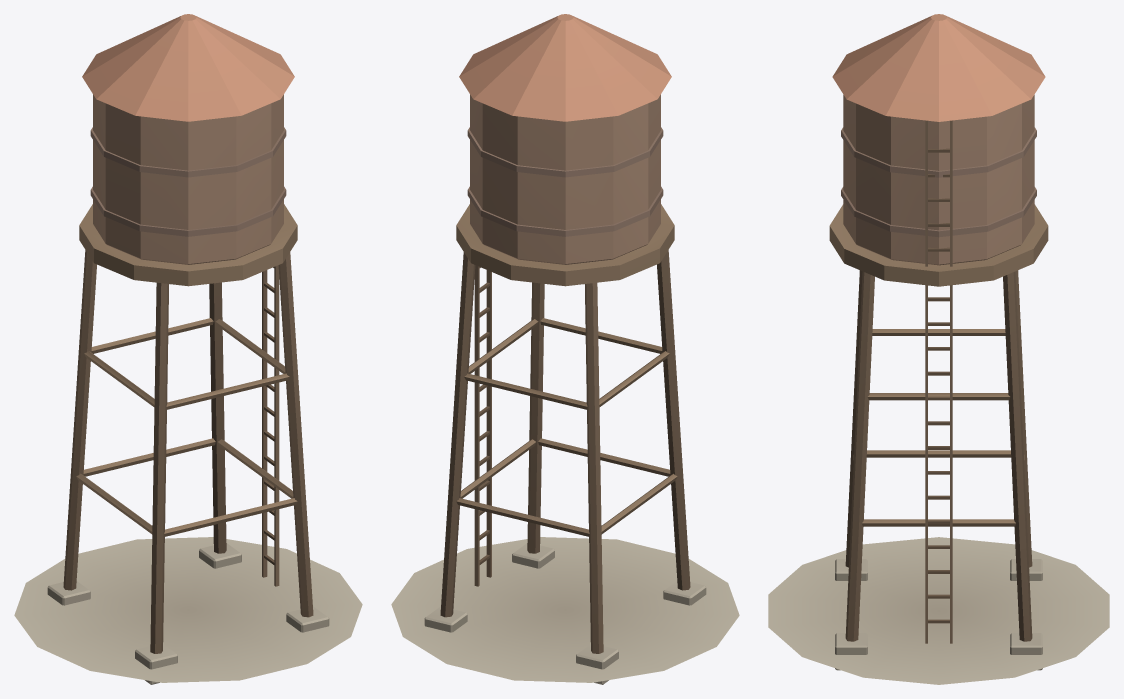
File: water_tower.glb
3 renders of one model, left to right at view 1: azimuth 30°, elevation 25°; view 2: azimuth 150°, elevation 25°; view 3: azimuth 270°, elevation 25°, orthographic.
Parts seen in each view (by area): view 1: water_tower; view 2: water_tower; view 3: water_tower.
Boxes of the visible parts, x1,y1,x2,y2 form: water_tower: (14,14,362,684); water_tower: (391,14,739,684); water_tower: (768,14,1109,684).
Bounding box in the file's own units: 6.4 × 12.3 × 6.24.
